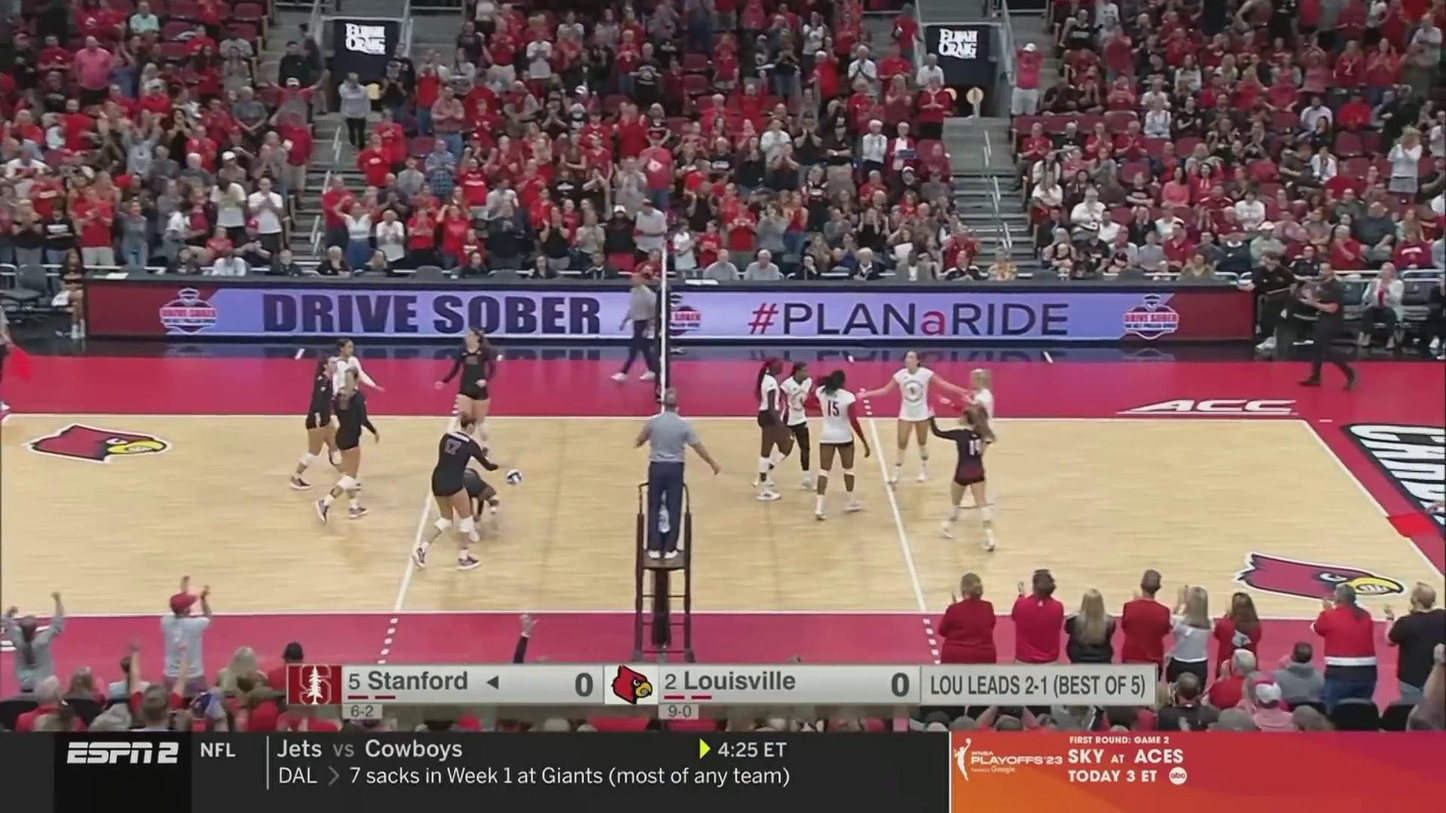player: (416, 414, 487, 573), (288, 357, 365, 492), (313, 365, 379, 520), (873, 350, 947, 485), (322, 334, 387, 485), (812, 368, 871, 521), (937, 405, 997, 553), (947, 368, 999, 513), (748, 358, 796, 502), (773, 361, 825, 493), (447, 327, 500, 454), (434, 466, 501, 540)
refree: (631, 397, 714, 551), (615, 273, 664, 382)
